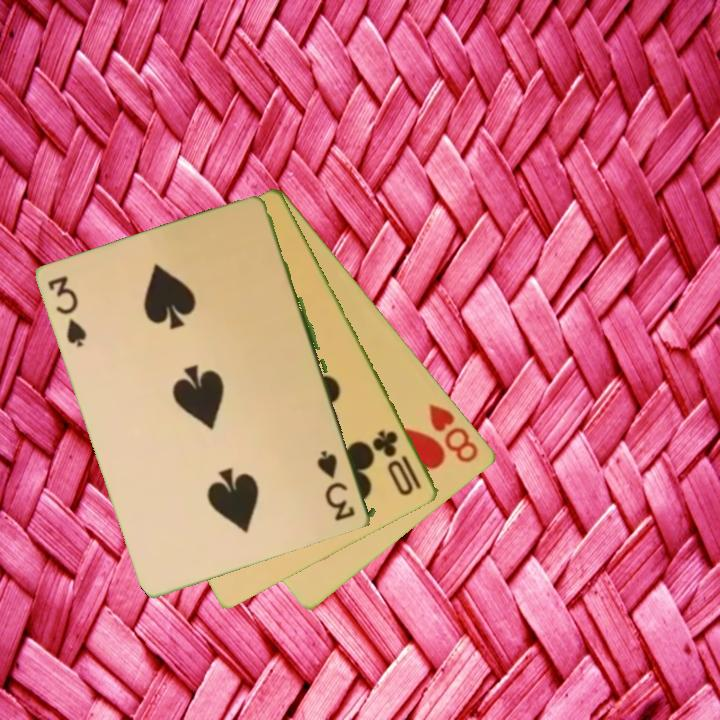10c: (370, 427, 425, 500)
3s: (44, 272, 91, 351), (317, 447, 359, 523)
8h: (425, 400, 482, 466)
